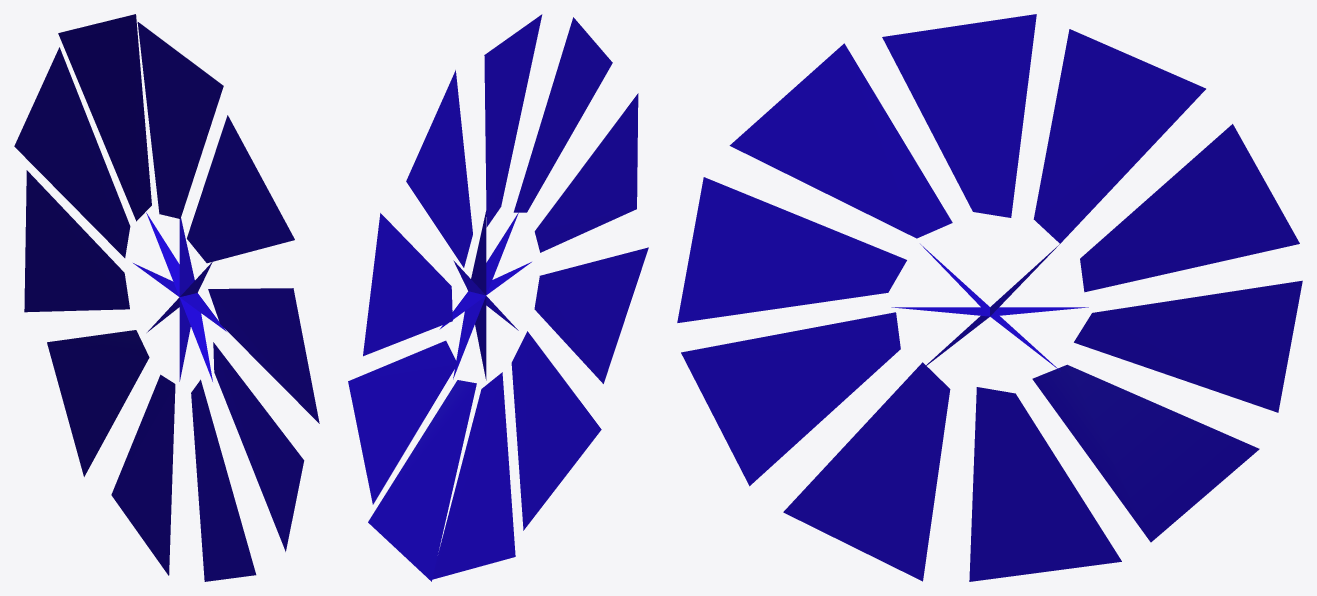
File: MoneyPrinters_Fan_LOD3.fbx
The picture shows the model from 3 angles, left to right: view 1: azimuth 30°, elevation 25°; view 2: azimuth 150°, elevation 25°; view 3: azimuth 270°, elevation 25°; orthographic projection. The views are drawn at different scales.
Parts seen in each view (by area): view 1: Fluent_Wire.030; view 2: Fluent_Wire.030; view 3: Fluent_Wire.030.
Part boxes in pixels (box(x1,y1,x2,y2)): Fluent_Wire.030: box(14, 14, 319, 581); Fluent_Wire.030: box(348, 14, 648, 581); Fluent_Wire.030: box(677, 14, 1302, 581).
Size of the model in its own units: 0.2901 by 3.86 by 3.85.
